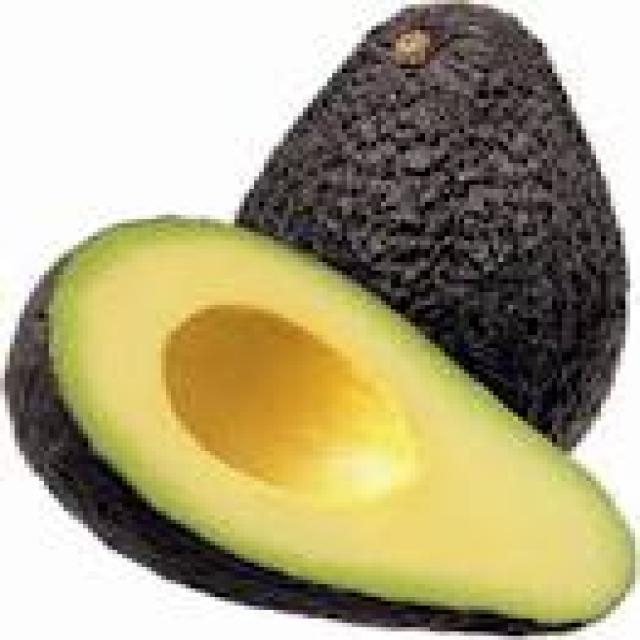Avocado: (5, 206, 640, 636)
